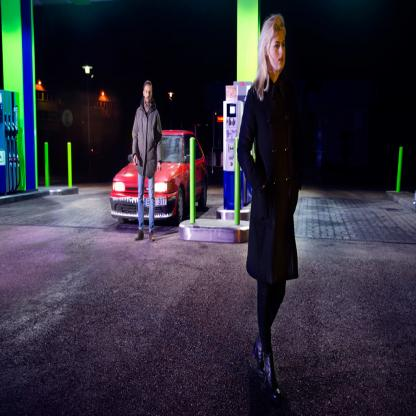Car: (112, 129, 207, 223)
